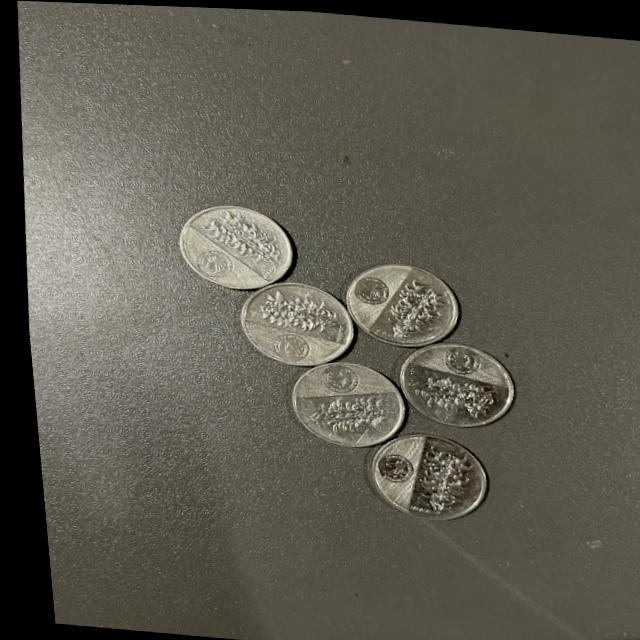5_New_Back: (190, 203, 286, 269), (240, 280, 343, 340), (405, 438, 474, 519), (379, 271, 453, 343), (295, 385, 388, 433)
